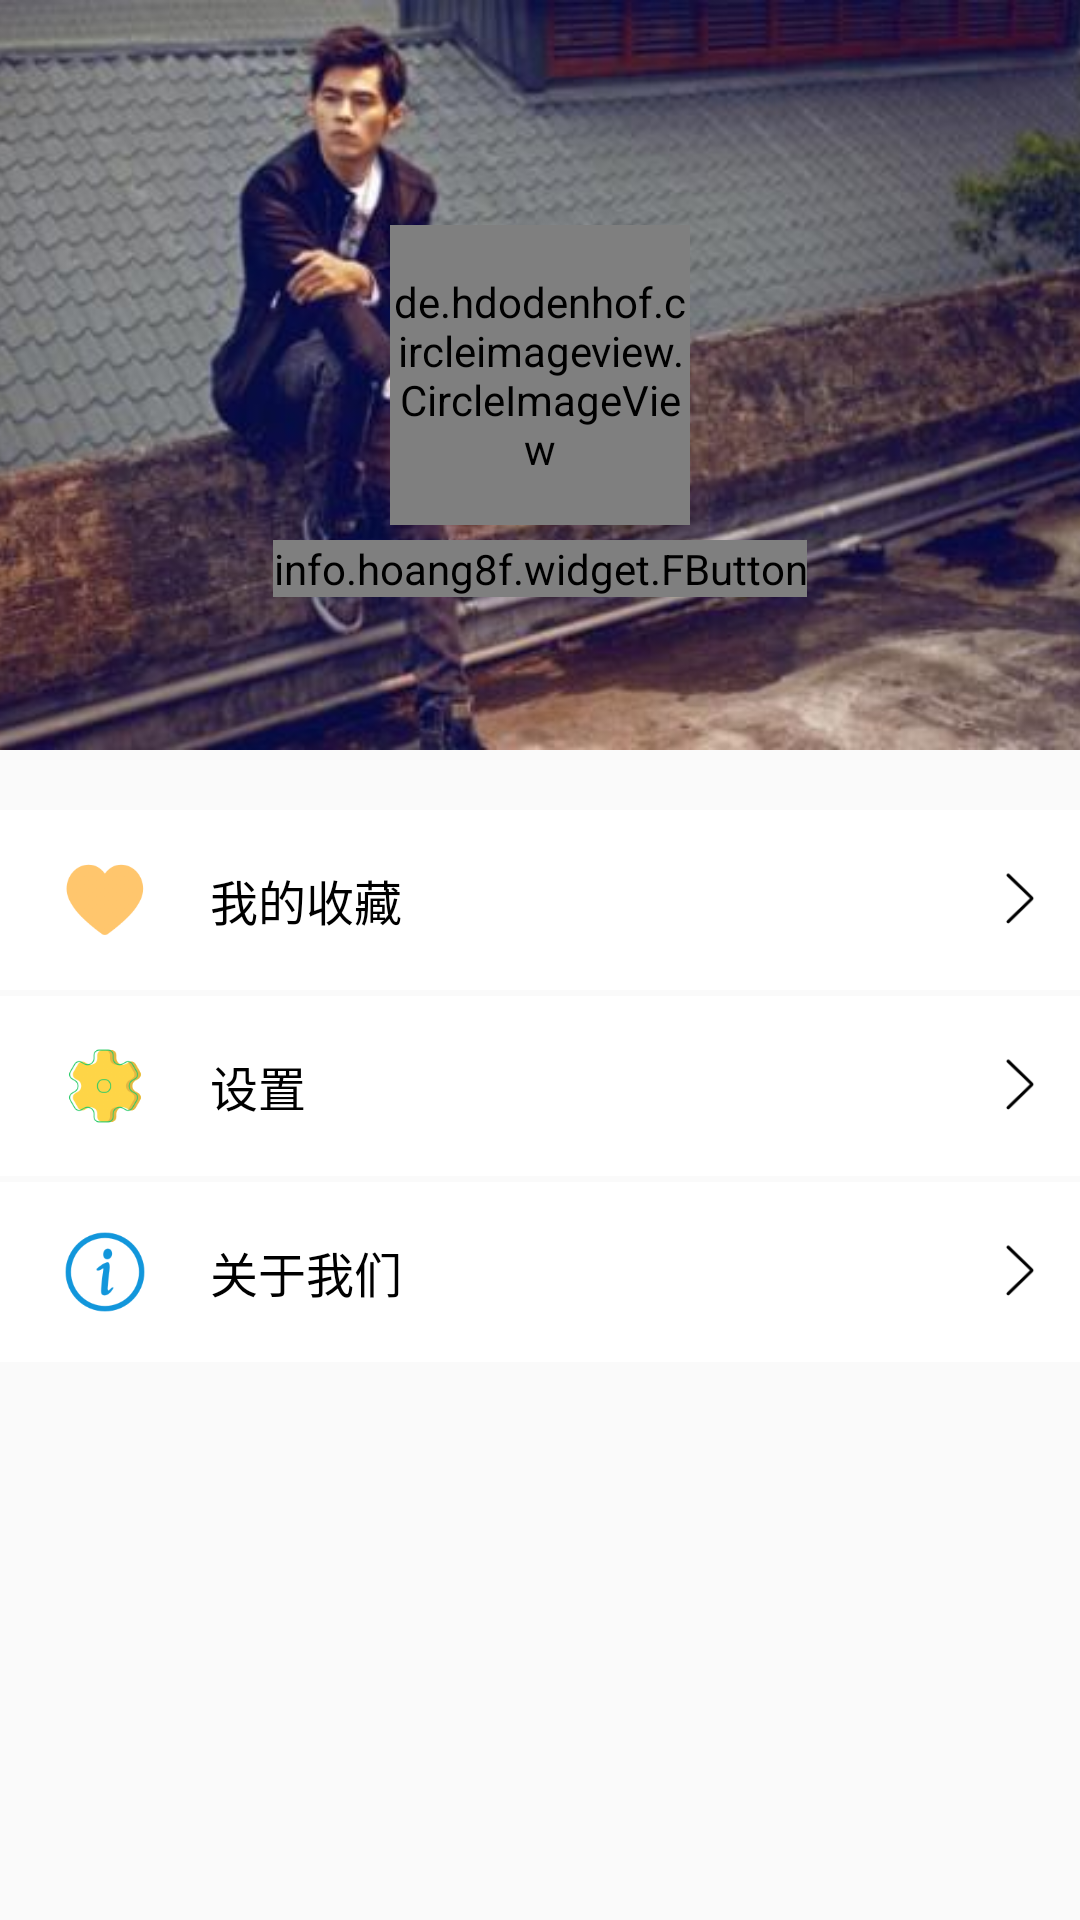

Named icons in this screenshot (1080*1920) and their centers, (x,y):
person about: (105,1272)
person collection: (104,899)
person setting: (105,1086)
